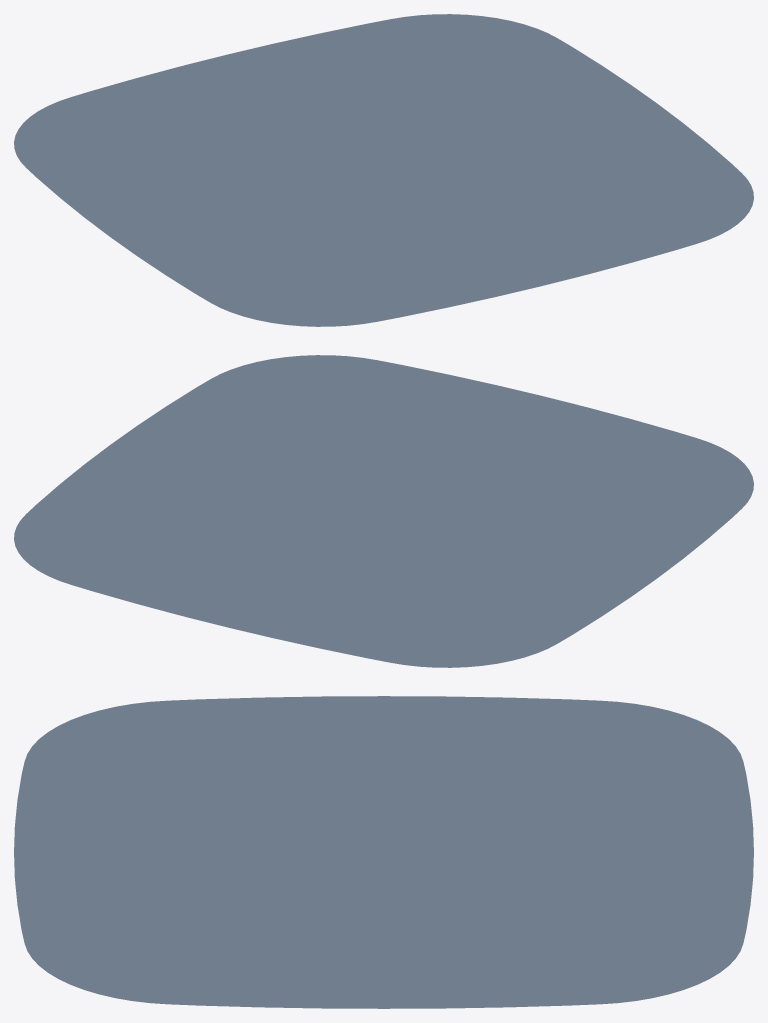
Rendered from original-1.obj.
3 renders of one model, top to bottom at view 1: azimuth 30°, elevation 25°; view 2: azimuth 150°, elevation 25°; view 3: azimuth 270°, elevation 25°, orthographic. The views are drawn at different scales.
Visible parts, largest first — view 1: group_0/ID4#ID4; view 2: group_0/ID4#ID4; view 3: group_0/ID4#ID4.
Boxes of the visible parts, x1,y1,x2,y2 form: group_0/ID4#ID4: [14, 14, 753, 326]; group_0/ID4#ID4: [14, 355, 753, 667]; group_0/ID4#ID4: [14, 696, 753, 1008].
Size of the model in its own units: 0.6775 by 0 by 0.6775.
